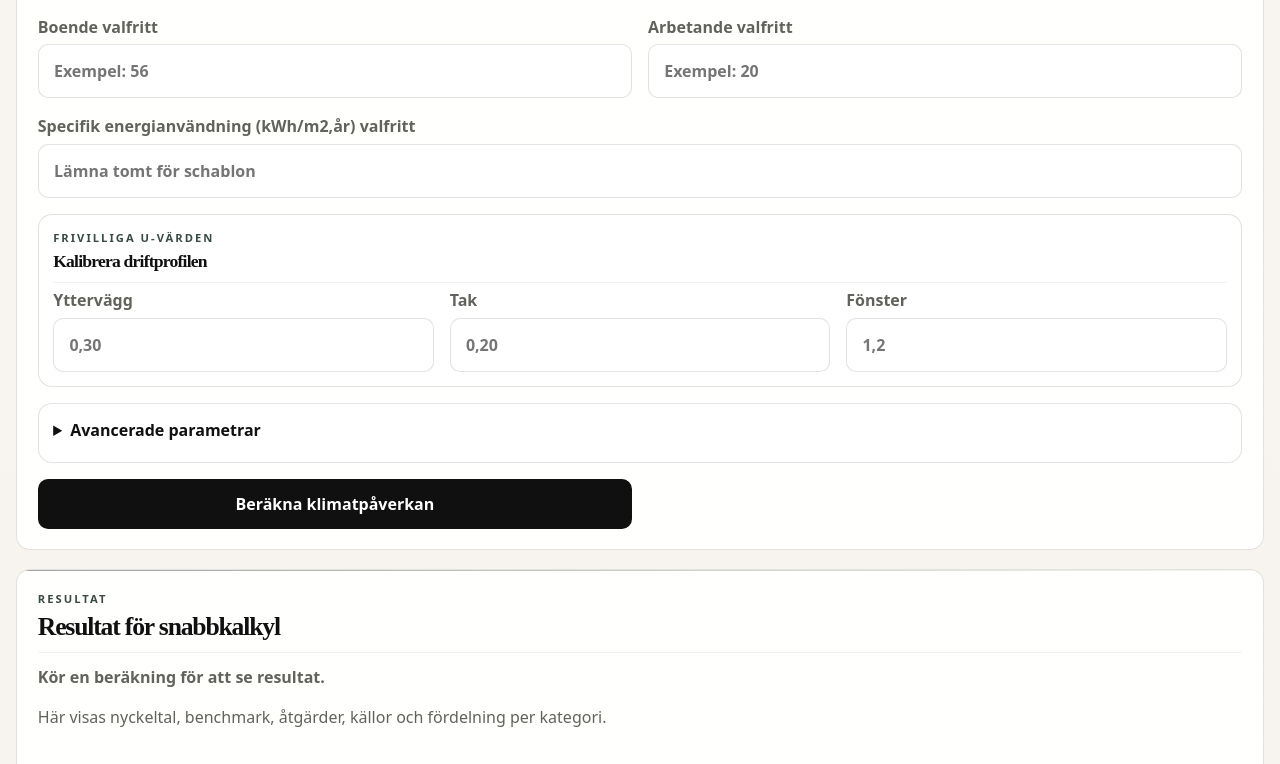
Test: App › applies a best practice proxy profile to the uncertain fields
(page scrolled)
Step 1. Click the heading "Avancerade parametrar" → (166, 430), box [70,420,261,442]
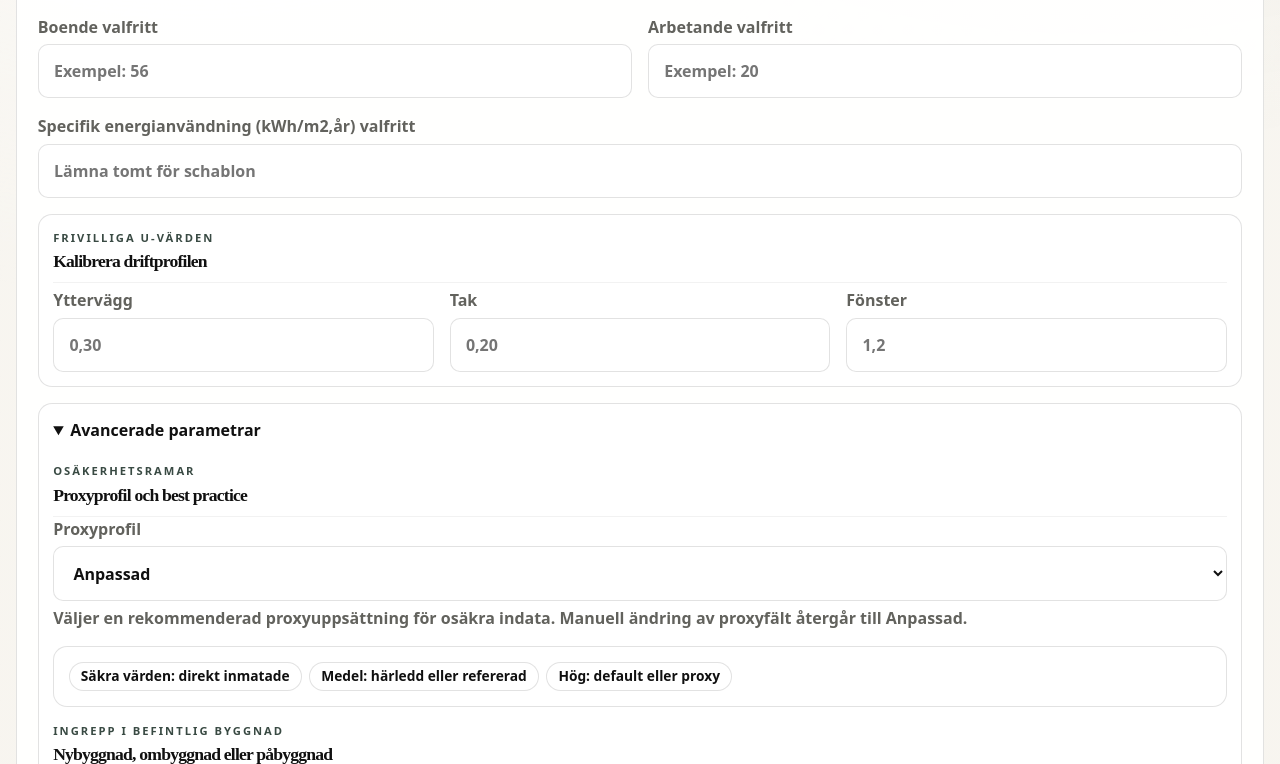
Step 2. Select "Best practice" in the dropdown labelled "Proxyprofil" → (640, 574), box [53,546,1227,601]
(page scrolled)
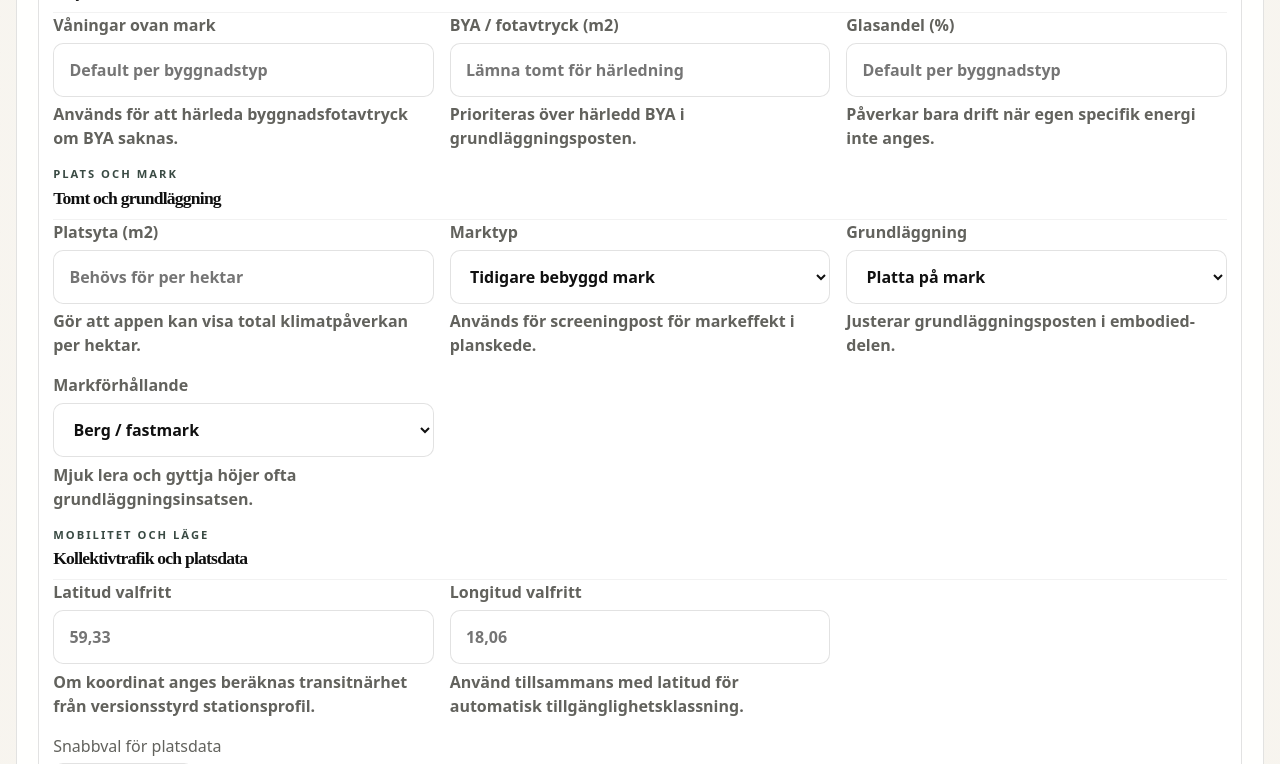
Now the dropdown labelled "Markförhållande" shows "Berg / fastmark", box [53,403,434,457]
